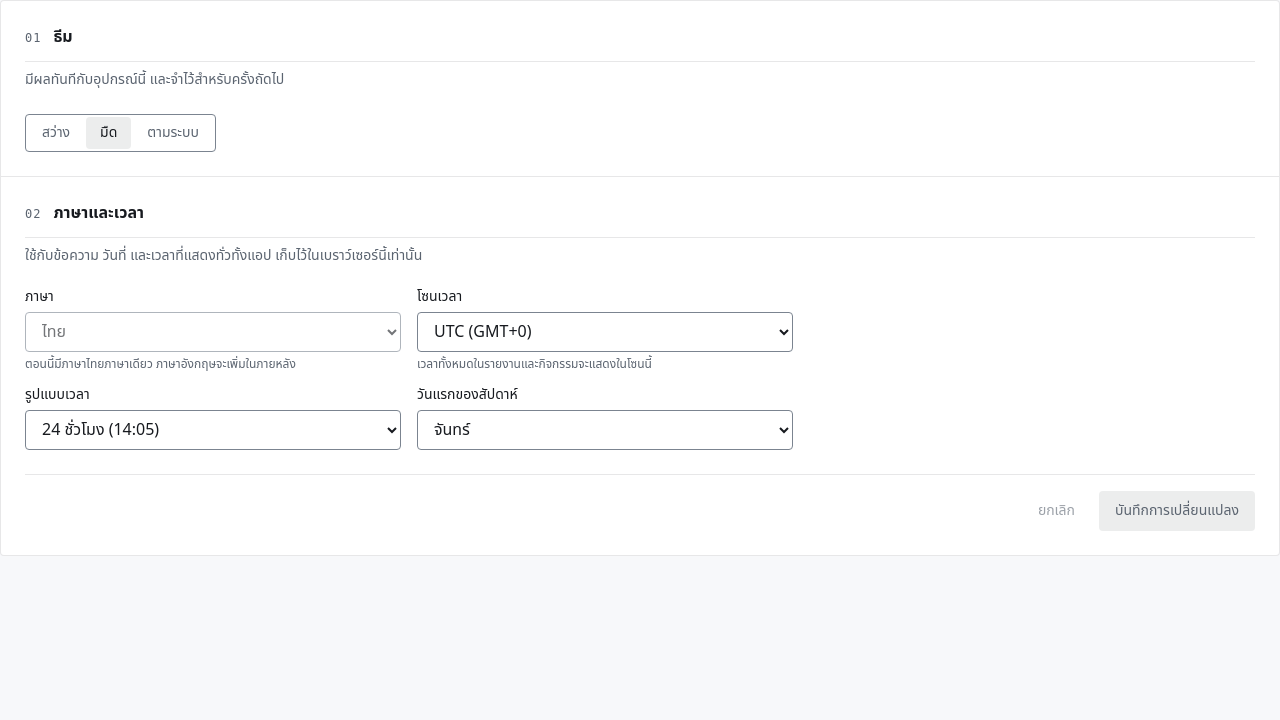
Scenario: DisplayPage › saves only after a change, persists to this browser, and cancel restores
Expected: the button with test id "display-save" is disabled, [1099,491,1255,531]
Step 1. Select "12 ชั่วโมง (2:05 PM)" in the dropdown with test id "display-hour-cycle" → (213, 430), box [25,410,401,450]
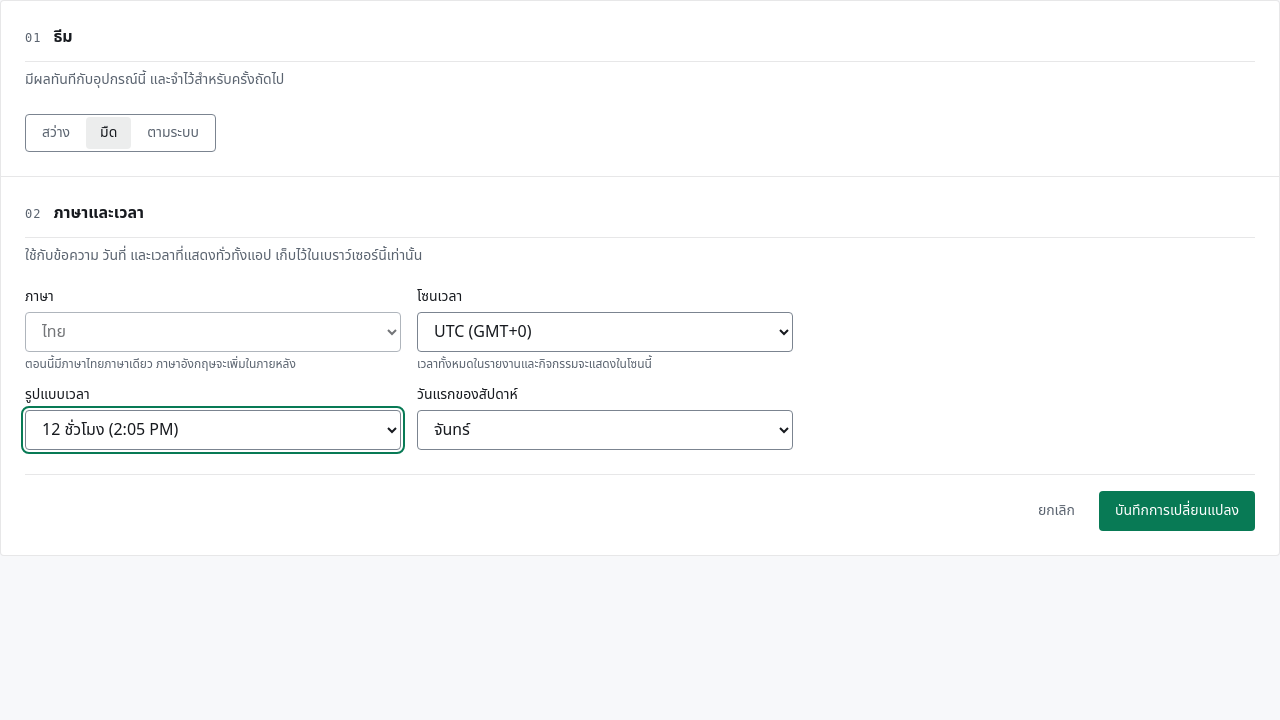
Step 2. Select "Tokyo (GMT+9)" in the dropdown with test id "display-time-zone" → (605, 332), box [417,312,793,352]
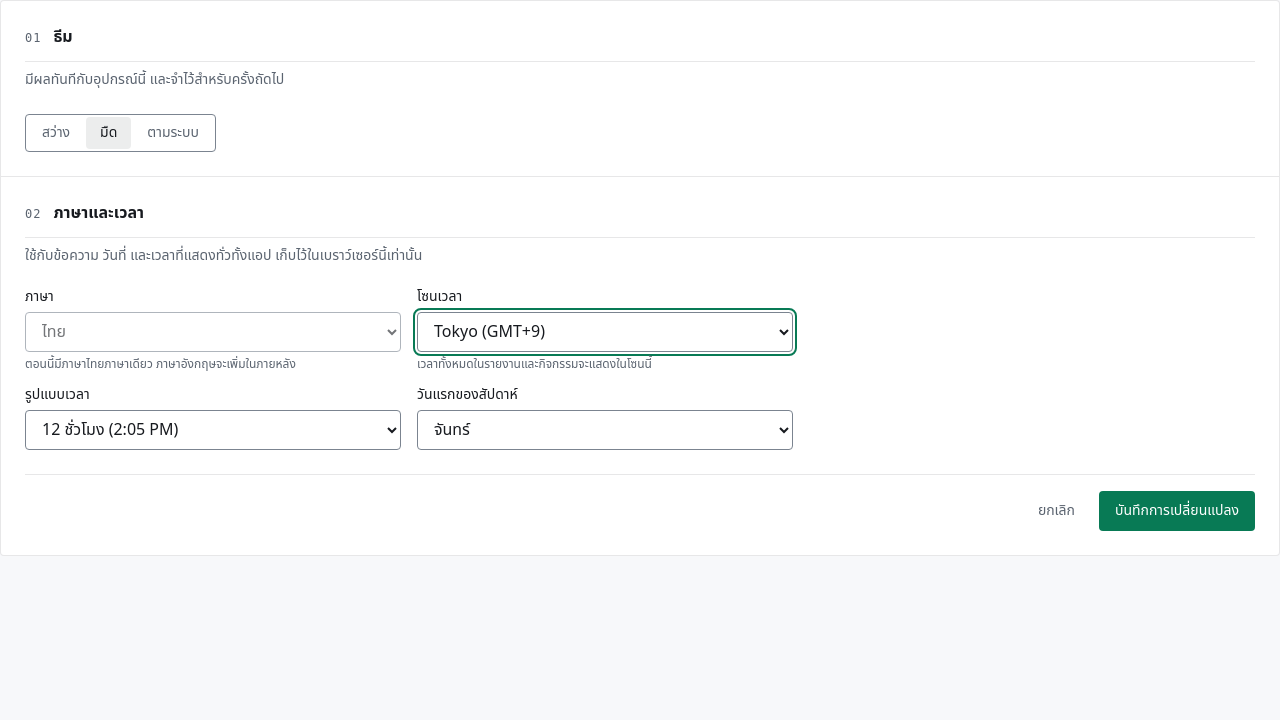
Expected: the button with test id "display-save" is enabled
Step 3. Click the button with test id "display-save" → (1177, 511), box [1099,491,1255,531]
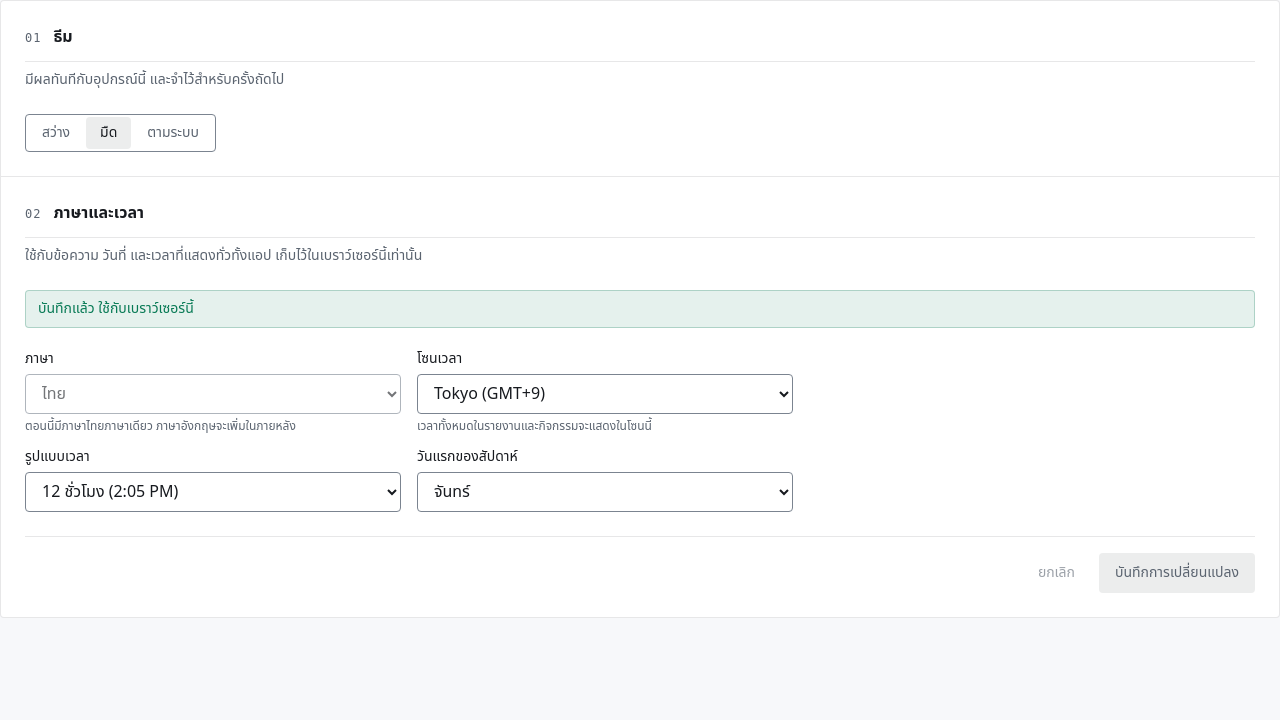
Expected: the message "บันทึกแล้ว ใช้กับเบราว์เซอร์นี้" is shown, [25,290,1255,328]
Expected: the button with test id "display-save" is disabled, [1099,553,1255,593]
Expected: the button with test id "display-cancel" is disabled, [1022,553,1091,593]
Step 4. Select "อาทิตย์" in the dropdown with test id "display-week-start" → (605, 492), box [417,472,793,512]
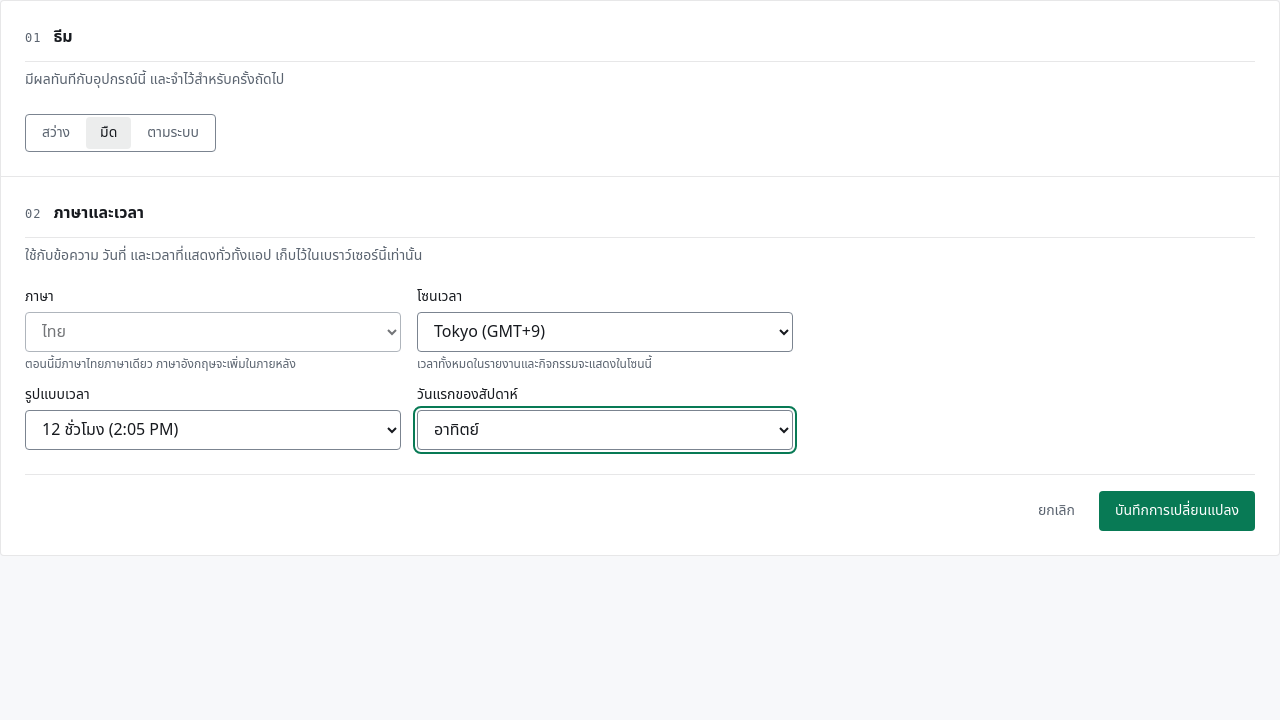
Expected: the button with test id "display-save" is enabled, [1099,491,1255,531]
Step 5. Click the button with test id "display-cancel" → (1056, 511), box [1022,491,1091,531]
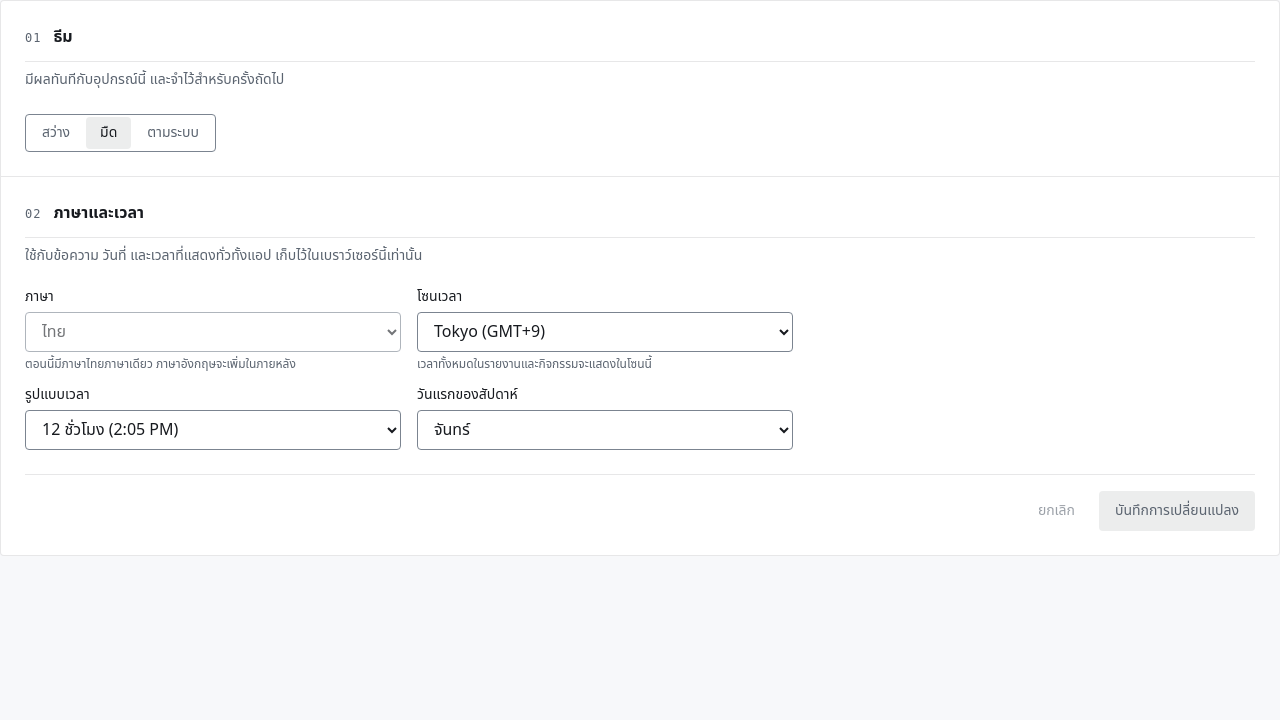
Expected: the button with test id "display-save" is disabled, [1099,491,1255,531]
Expected: the button with test id "display-cancel" is disabled, [1022,491,1091,531]
